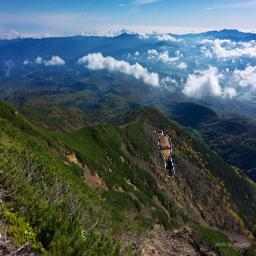Cuckoo: (152, 130, 175, 177)
